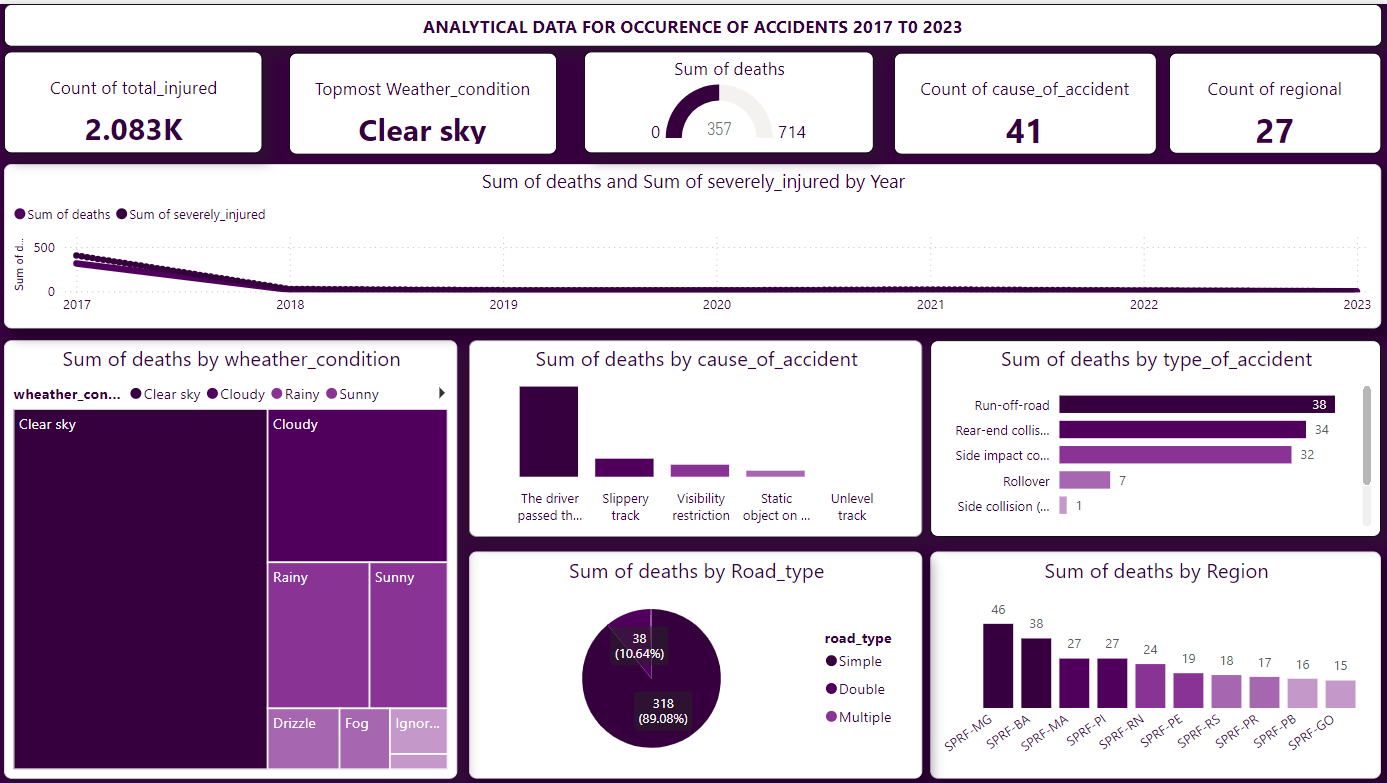

The dashboard page shown, as its layout file describes it:
{"tool":"powerbi","page":{"name":"Page 1","canvas":[1280,720],"ordinal":0},"visuals":[{"type":"textbox","box":[4.5,0,1267.4,39.3],"z":0},{"type":"columnChart","title":"Sum of deaths by Region","fields":{"Category":["accidents_2017_to_2023_english (1).regional"],"Y":["Sum(accidents_2017_to_2023_english (1).deaths)"]},"box":[856.8,503.4,414.8,209.1],"z":1000},{"type":"pieChart","title":"Sum of deaths by Road_type","fields":{"Category":["accidents_2017_to_2023_english (1).road_type"],"Y":["Sum(accidents_2017_to_2023_english (1).deaths)"]},"box":[431.8,503.4,417,209.1],"z":2000},{"type":"treemap","fields":{"Group":["accidents_2017_to_2023_english (1).wheather_condition"],"Values":["Sum(accidents_2017_to_2023_english (1).deaths)"]},"box":[4.5,309.1,417,403.4],"z":3000},{"type":"lineChart","fields":{"Y":["Sum(accidents_2017_to_2023_english (1).deaths)","Sum(accidents_2017_to_2023_english (1).severely_injured)"],"Category":["accidents_2017_to_2023_english (1).inverse_data.Variation.Date Hierarchy.Year"]},"box":[5,147.5,1266.2,151.2],"z":4000},{"type":"columnChart","fields":{"Category":["accidents_2017_to_2023_english (1).cause_of_accident"],"Y":["Sum(accidents_2017_to_2023_english (1).deaths)"]},"box":[431.8,309.1,417,180.7],"z":5000},{"type":"barChart","fields":{"Category":["accidents_2017_to_2023_english (1).type_of_accident"],"Y":["Sum(accidents_2017_to_2023_english (1).deaths)"]},"box":[856.8,309.1,414.8,180.7],"z":6000},{"type":"gauge","fields":{"Y":["Sum(accidents_2017_to_2023_english (1).deaths)"]},"box":[537.5,43.8,266.2,93.8],"z":7000},{"type":"cardVisual","fields":{"Data":["CountNonNull(accidents_2017_to_2023_english (1).total_injured)"]},"box":[5,43.8,237.5,93.8],"z":8000},{"type":"cardVisual","fields":{"Data":["Min(accidents_2017_to_2023_english (1).wheather_condition)"]},"box":[266.2,45,246.2,93.8],"z":9000},{"type":"cardVisual","fields":{"Data":["Count(accidents_2017_to_2023_english (1).cause_of_accident)"]},"box":[822.5,45,241.2,93.8],"z":10000},{"type":"cardVisual","fields":{"Data":["Count(accidents_2017_to_2023_english (1).regional)"]},"box":[1076.2,45,195,92.5],"z":11000}]}

Visuals, with their boxes in screenshot pixels (x1, y1, x2, y2), scaled from the page's 1280x720 canvas onto the 1387x783 screenshot:
textbox: <bbox>5, 0, 1378, 43</bbox>
"Sum of deaths by Region" columnChart: <bbox>928, 547, 1378, 775</bbox>
"Sum of deaths by Road_type" pieChart: <bbox>468, 547, 920, 775</bbox>
treemap - accidents_2017_to_2023_english (1).wheather_condition x Sum(accidents_2017_to_2023_english (1).deaths): <bbox>5, 336, 457, 775</bbox>
lineChart - Sum(accidents_2017_to_2023_english (1).deaths) x Sum(accidents_2017_to_2023_english (1).severely_injured): <bbox>5, 160, 1377, 325</bbox>
columnChart - accidents_2017_to_2023_english (1).cause_of_accident x Sum(accidents_2017_to_2023_english (1).deaths): <bbox>468, 336, 920, 533</bbox>
barChart - accidents_2017_to_2023_english (1).type_of_accident x Sum(accidents_2017_to_2023_english (1).deaths): <bbox>928, 336, 1378, 533</bbox>
gauge - Sum(accidents_2017_to_2023_english (1).deaths): <bbox>582, 48, 871, 150</bbox>
cardVisual - CountNonNull(accidents_2017_to_2023_english (1).total_injured): <bbox>5, 48, 263, 150</bbox>
cardVisual - Min(accidents_2017_to_2023_english (1).wheather_condition): <bbox>288, 49, 555, 151</bbox>
cardVisual - Count(accidents_2017_to_2023_english (1).cause_of_accident): <bbox>891, 49, 1153, 151</bbox>
cardVisual - Count(accidents_2017_to_2023_english (1).regional): <bbox>1166, 49, 1377, 150</bbox>
